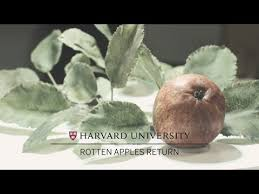damaged_apple: (154, 80, 226, 149)
